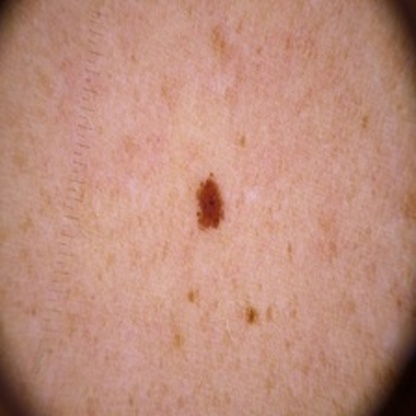benign: (181, 170, 235, 230)
